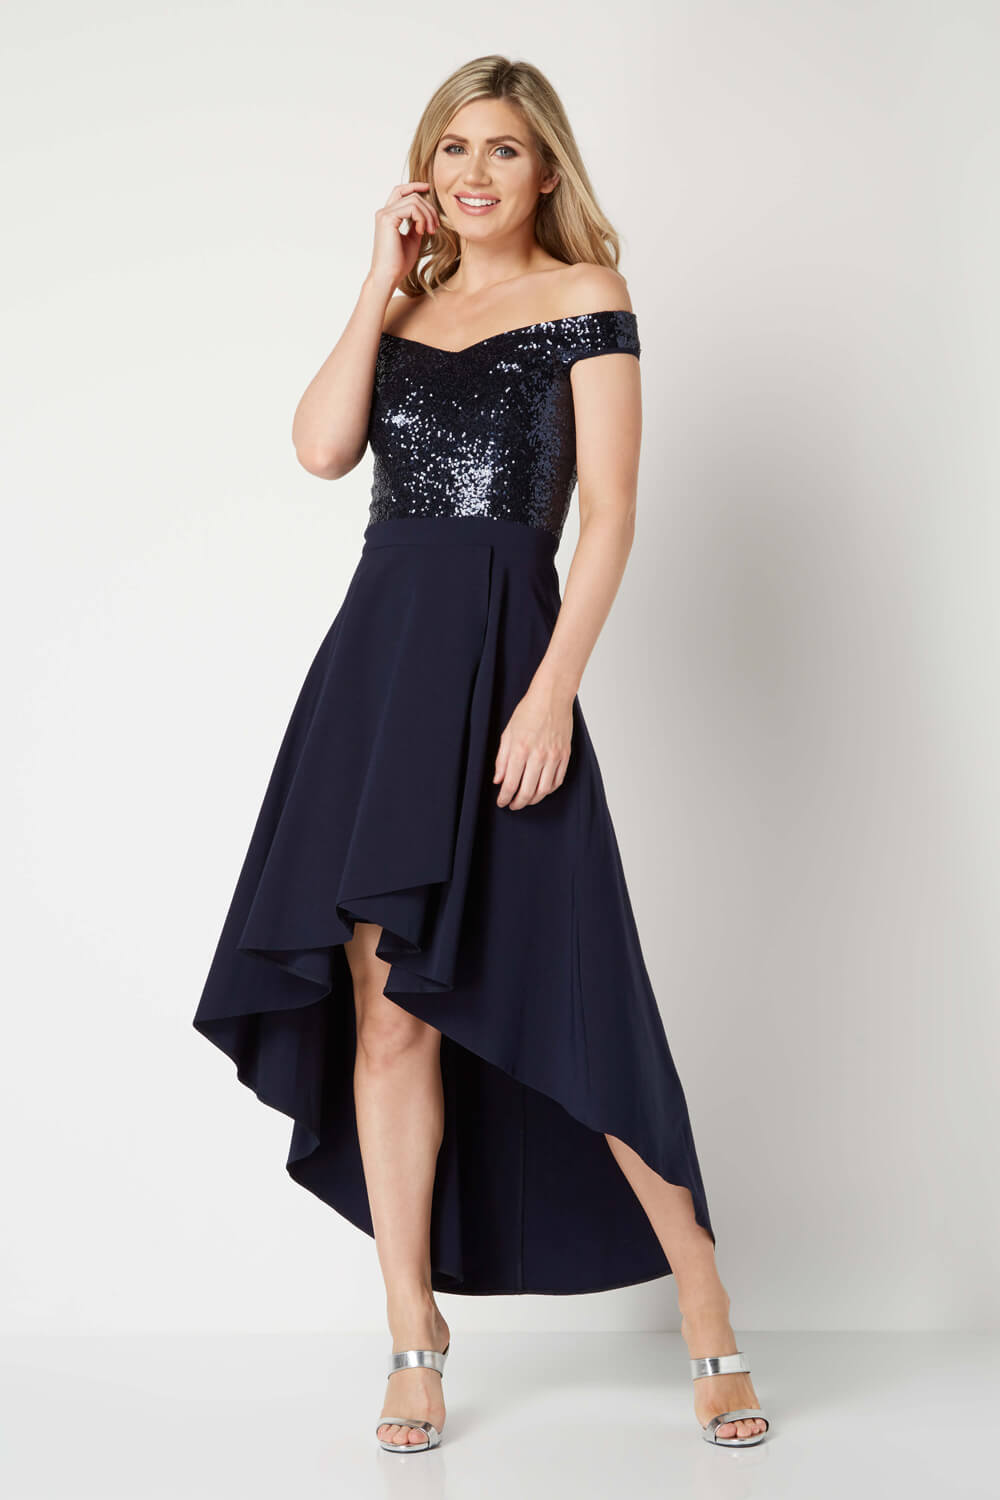S_dress: (180, 278, 751, 1294)
